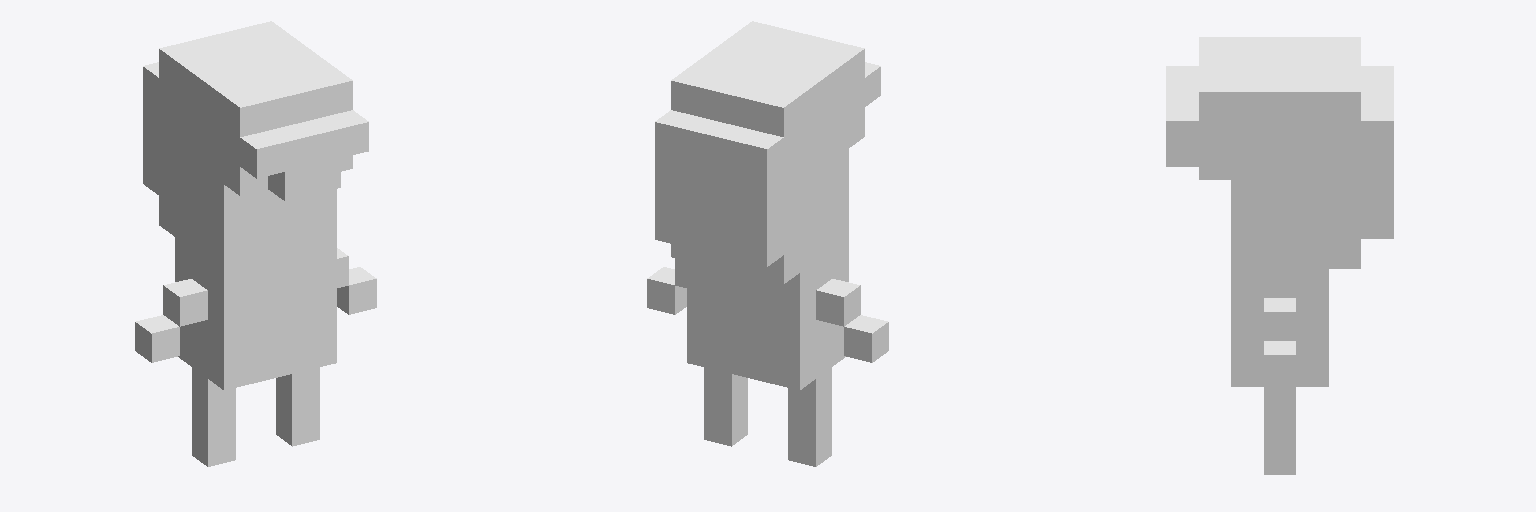
File: boy.obj
The picture shows the model from 3 angles: view 1: azimuth 30°, elevation 25°; view 2: azimuth 150°, elevation 25°; view 3: azimuth 270°, elevation 25°; orthographic projection.
Bounding box in the file's own units: 8 × 13 × 7.